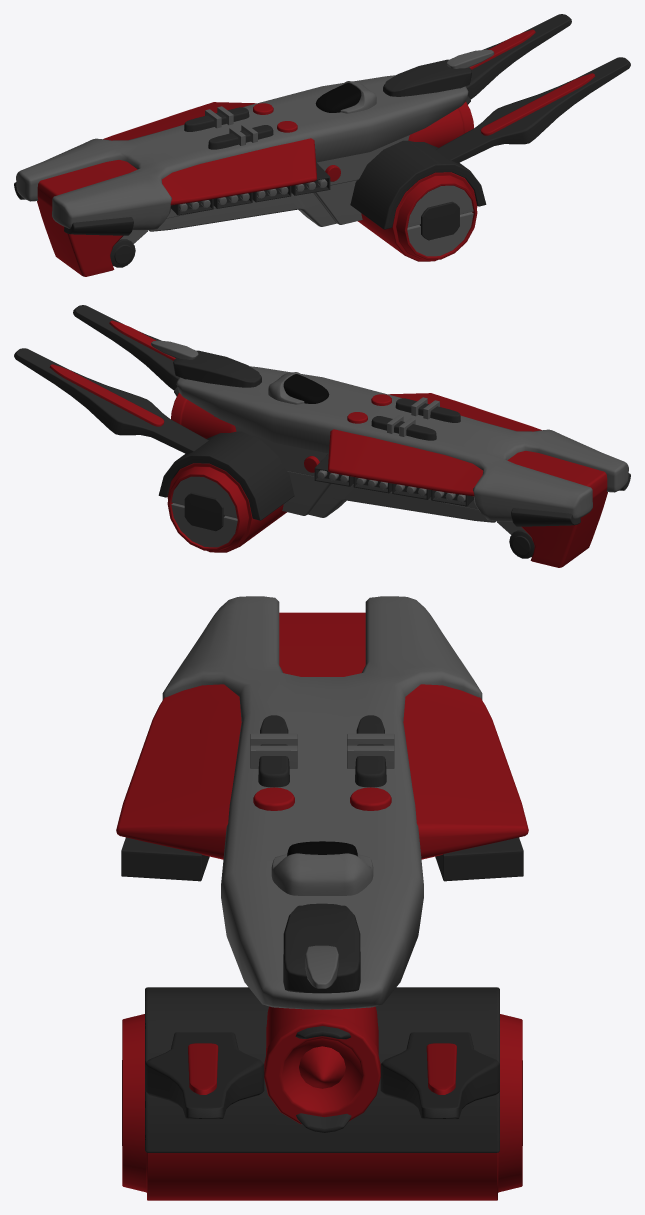
The model's file is Corvette_04.fbx.
3 views of the same model, one above another, from view 1: azimuth 30°, elevation 25°; view 2: azimuth 150°, elevation 25°; view 3: azimuth 270°, elevation 25° (orthographic). The views are drawn at different scales.
Visible parts, largest first — view 1: Corvette_04; view 2: Corvette_04; view 3: Corvette_04.
Boxes of the visible parts, x1=… form: Corvette_04: x1=14, y1=14, x2=630, y2=276; Corvette_04: x1=14, y1=305, x2=630, y2=567; Corvette_04: x1=116, y1=596, x2=528, y2=1200.
Bounding box in the file's own units: 3592 × 951 × 1147.
